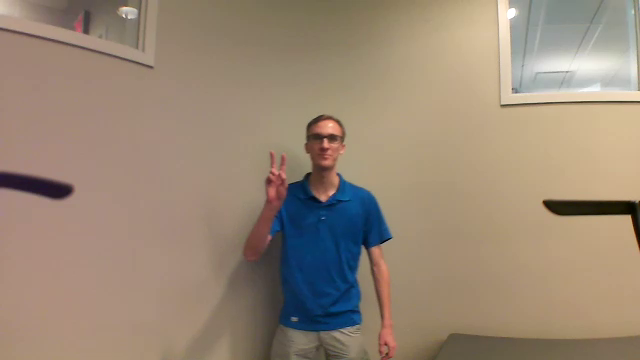peace: (253, 143, 298, 218)
